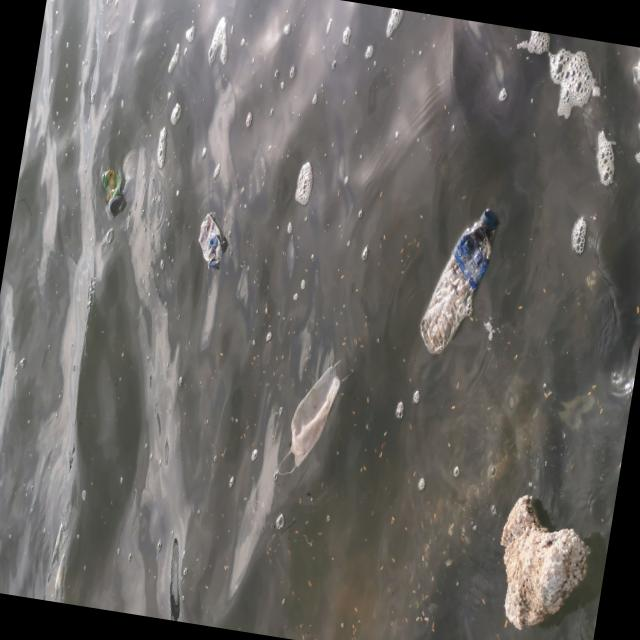can: (97, 167, 131, 219)
foam: (485, 491, 605, 640)
plastic bottle: (417, 205, 502, 362)
